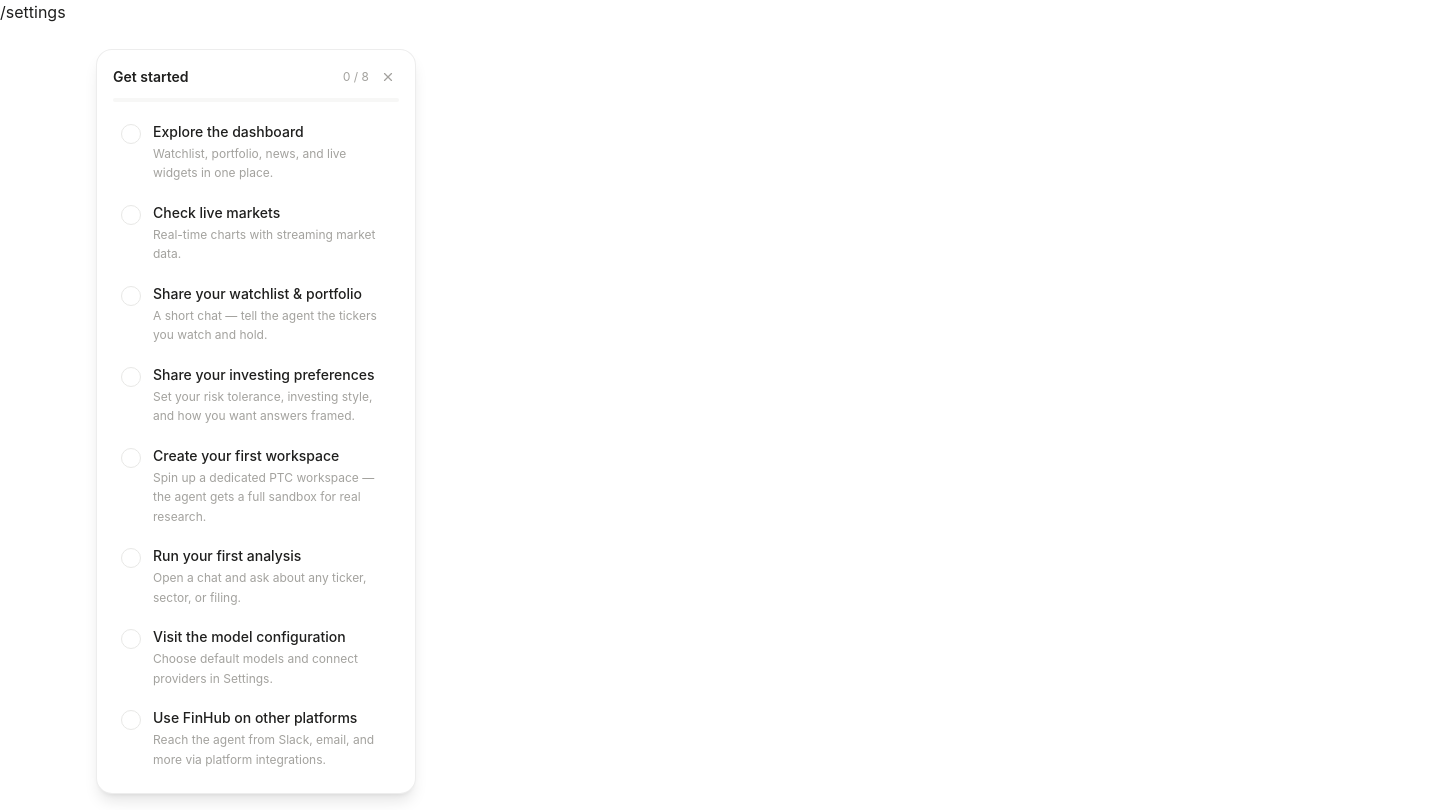
Test: GettingStartedCard › declining the interview dialog launches nothing
The width and height of the screenshot is (1440, 810).
Click the button "Share your watchlist" at (256, 314), box x1=113 y1=276 x2=399 y2=352
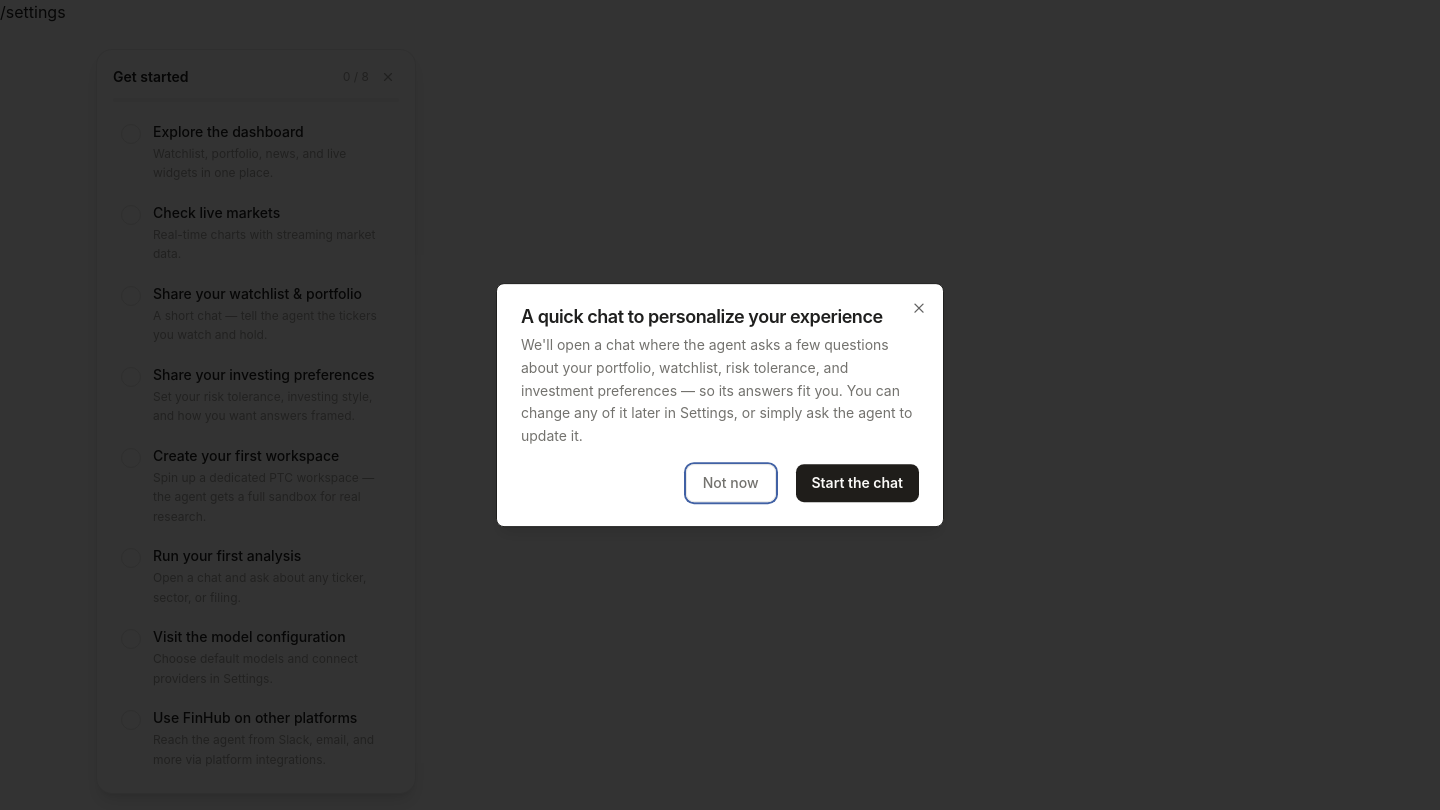
Click the button "Not now" at (731, 483), box x1=686 y1=464 x2=776 y2=502
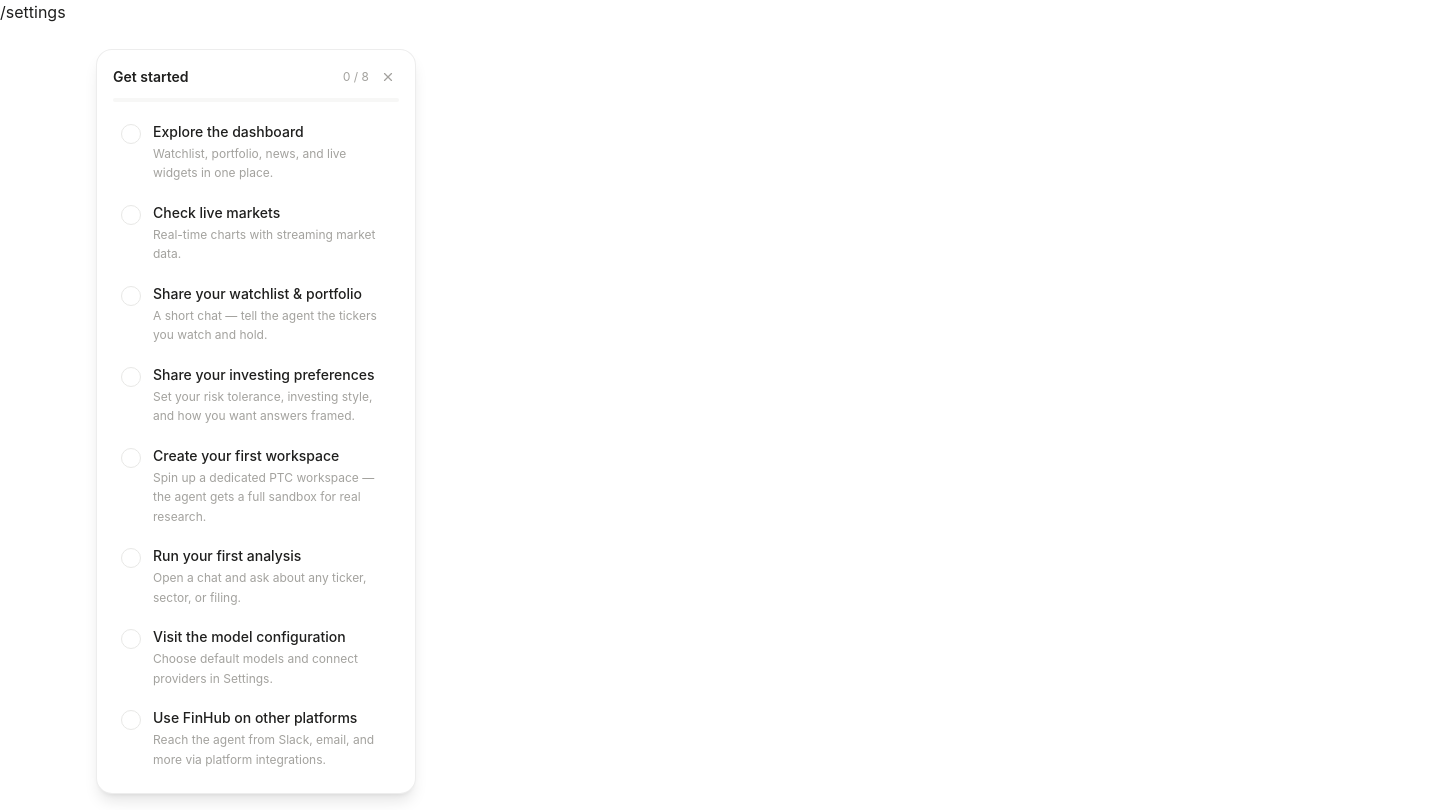
Expected: the text "agent asks a few questions" is gone
